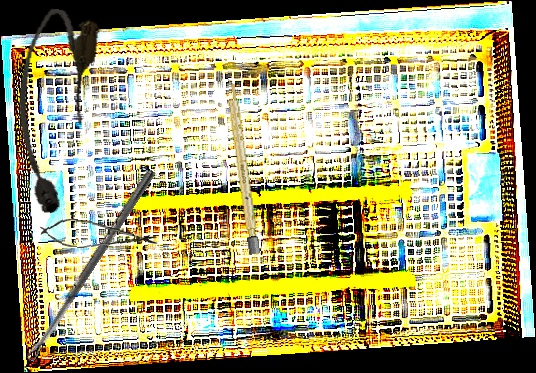Cannula: (1, 5, 102, 217)
Micro Scissor: (37, 216, 160, 254)
Scalpel Handle: (224, 78, 261, 255)
Surgical Spoon: (25, 167, 156, 363)
